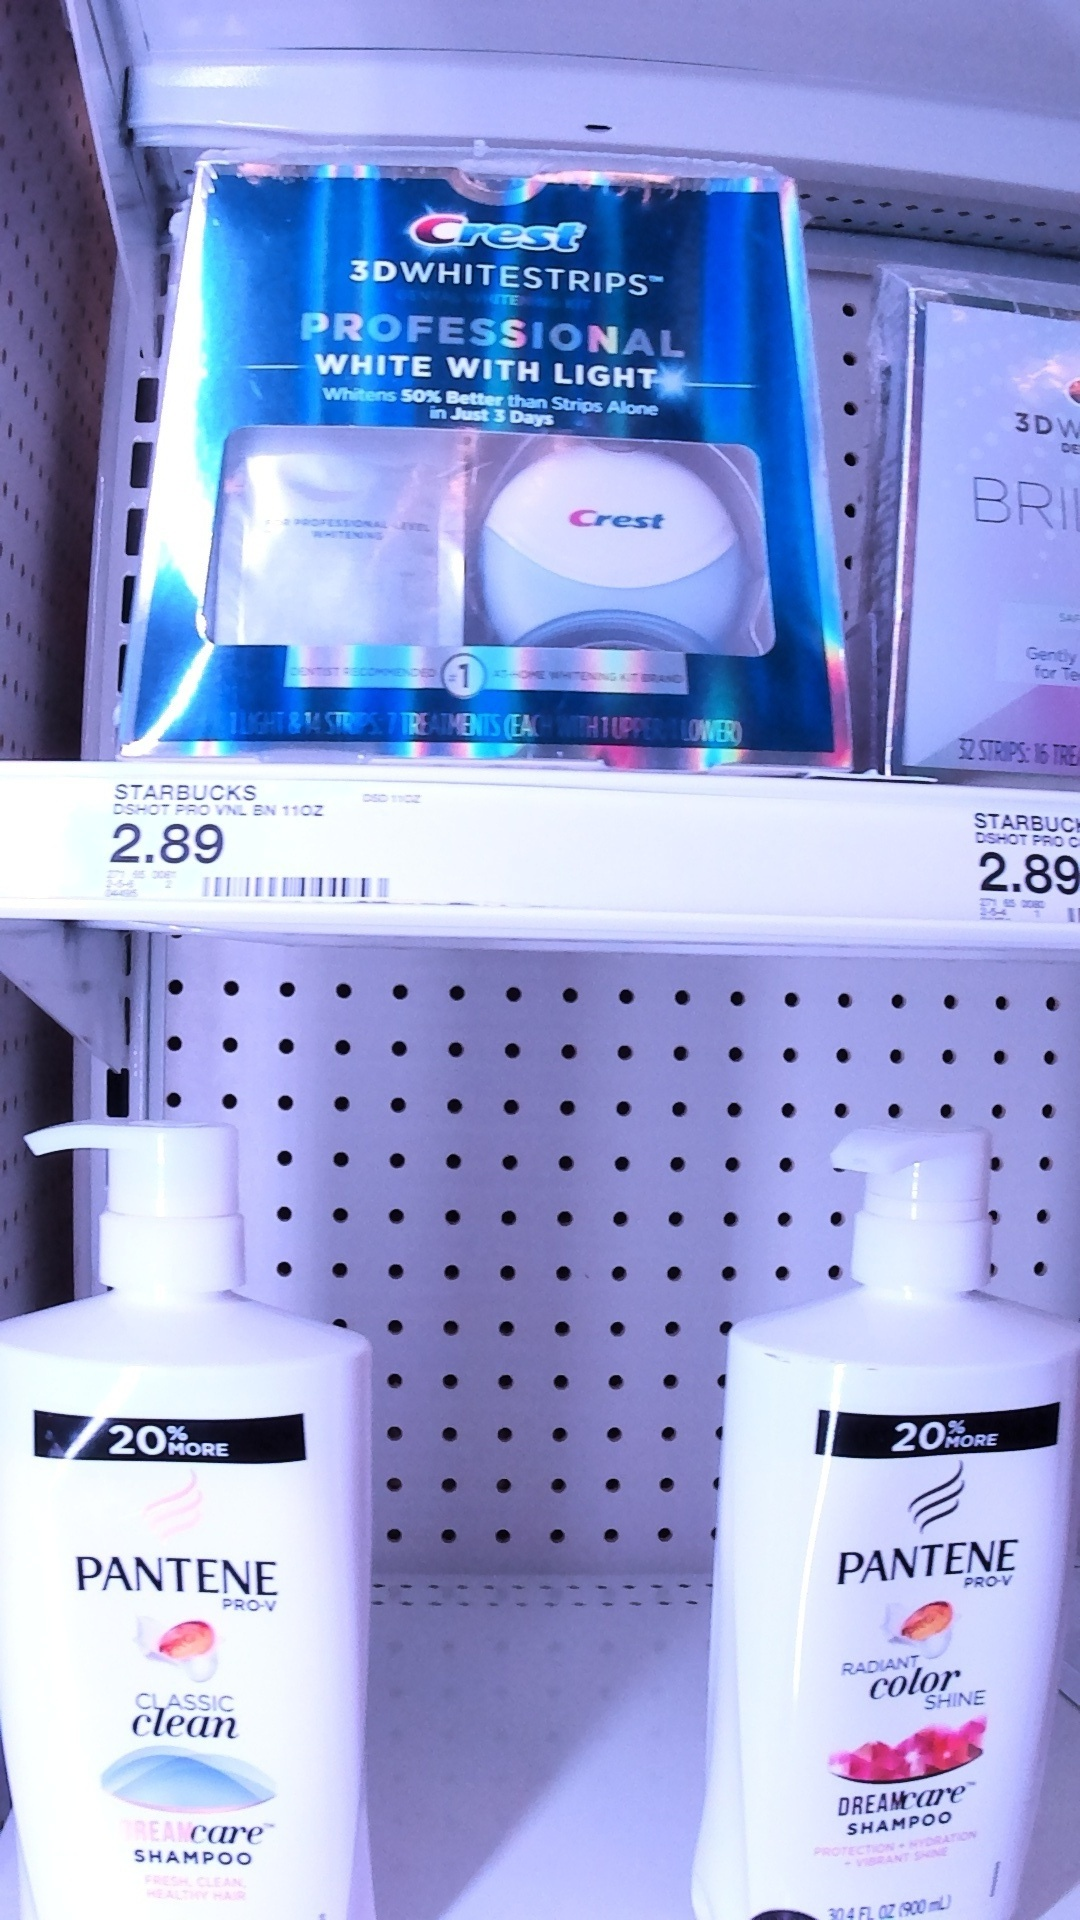ptag: (94, 760, 426, 924), (955, 785, 1080, 948)
